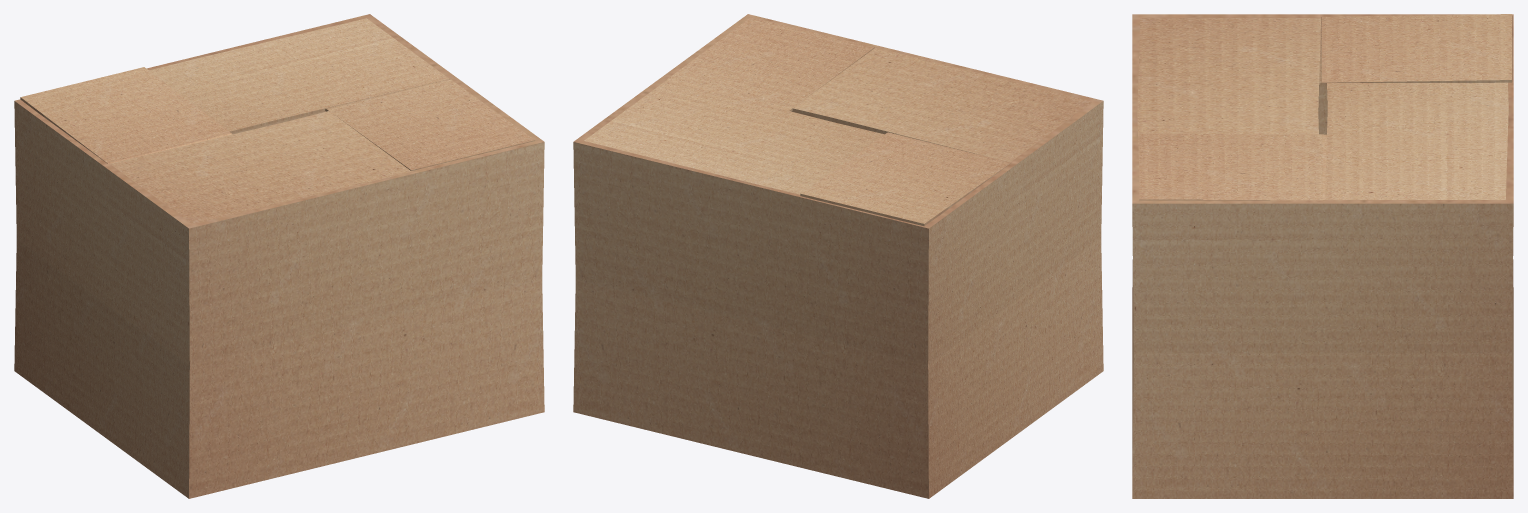
File: CARDBOARD BOX 2.fbx
The picture shows the model from 3 angles, left to right: view 1: azimuth 30°, elevation 25°; view 2: azimuth 150°, elevation 25°; view 3: azimuth 270°, elevation 25°; orthographic projection. The views are drawn at different scales.
Parts seen in each view (by area): view 1: CARDBOARD BOX 2; view 2: CARDBOARD BOX 2; view 3: CARDBOARD BOX 2.
Boxes of the visible parts, box(x1,y1,x2,y2) form: CARDBOARD BOX 2: box(14, 14, 544, 498); CARDBOARD BOX 2: box(573, 14, 1103, 498); CARDBOARD BOX 2: box(1132, 14, 1513, 498).
Bounding box in the file's own units: 0.5855 × 0.4982 × 0.4298.
